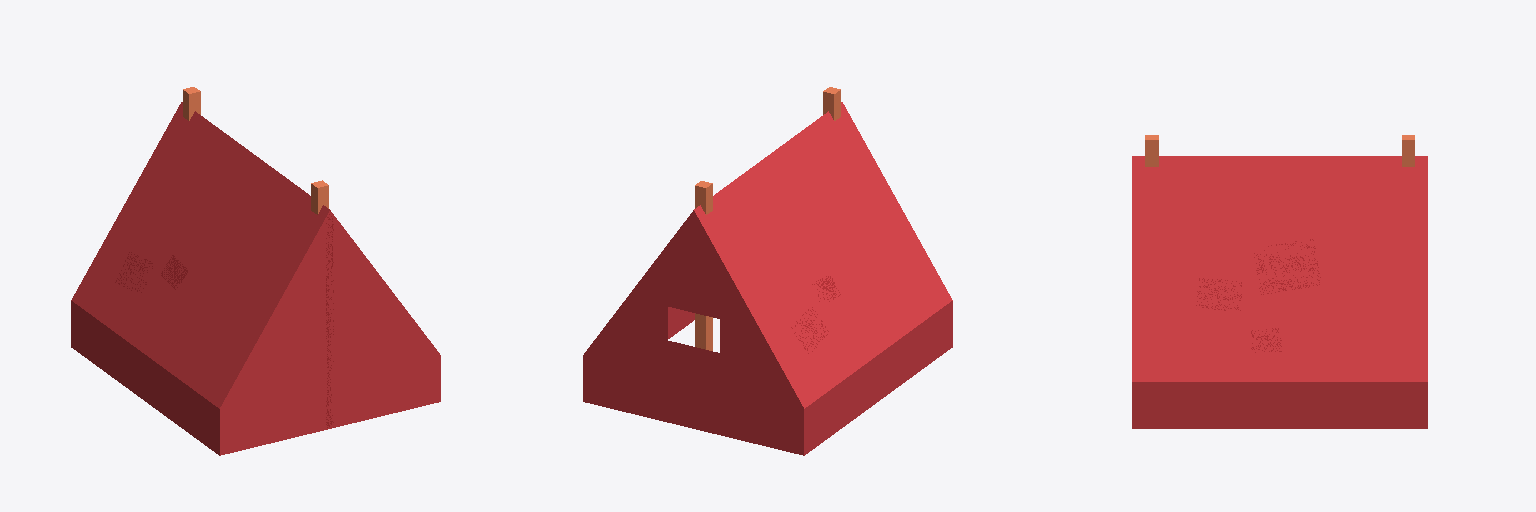
Rendered from tent_smallClosed.obj.
The picture shows the model from 3 angles: view 1: azimuth 30°, elevation 25°; view 2: azimuth 150°, elevation 25°; view 3: azimuth 270°, elevation 25°; orthographic projection.
Visible parts, largest first — view 1: tent_smallClosed; view 2: tent_smallClosed; view 3: tent_smallClosed.
Part boxes in pixels (bbox=[...]): tent_smallClosed: bbox=[71, 87, 440, 455]; tent_smallClosed: bbox=[583, 87, 952, 455]; tent_smallClosed: bbox=[1132, 135, 1427, 428].
Bounding box in the file's own units: 0.5476 × 0.5611 × 0.6364.